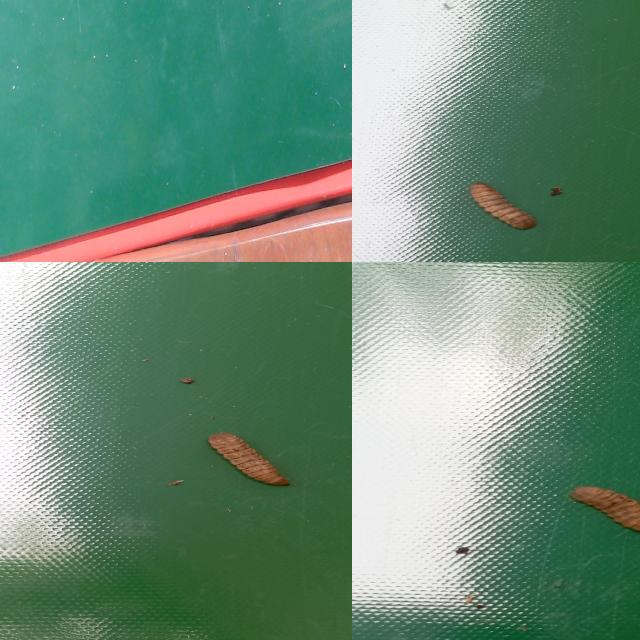Maggot: (208, 433, 290, 489), (468, 182, 537, 233), (571, 487, 640, 533)
